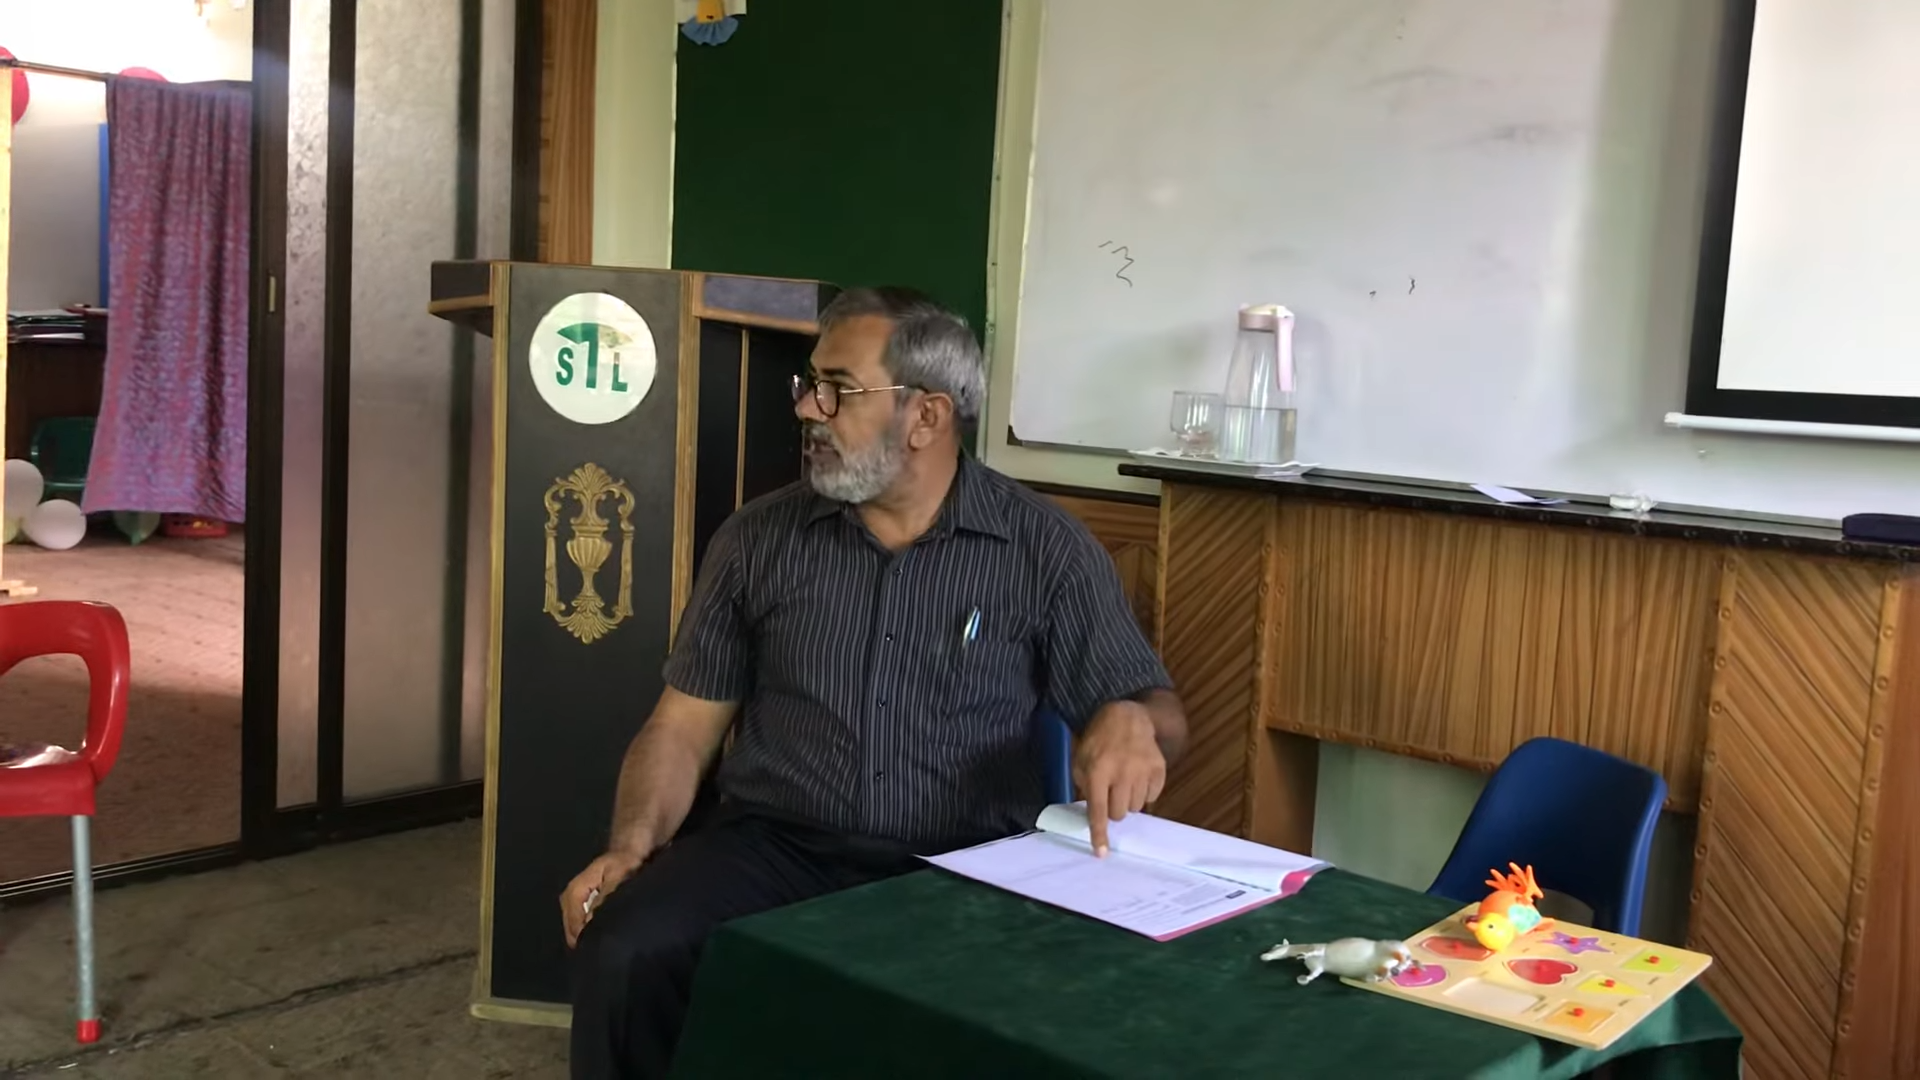Therapist: (516, 248, 1221, 1033)
